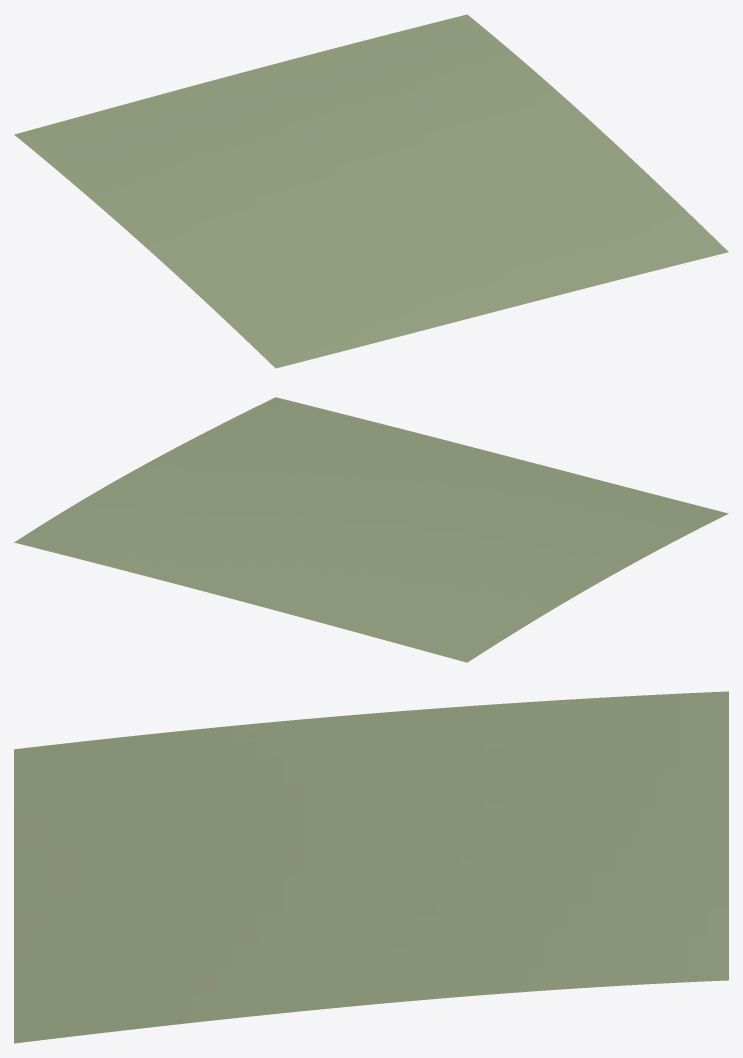
The model's file is desert-27-9.glb.
The picture shows the model from 3 angles, top to bottom: view 1: azimuth 30°, elevation 25°; view 2: azimuth 150°, elevation 25°; view 3: azimuth 270°, elevation 25°; orthographic projection. The views are drawn at different scales.
Visible parts, largest first — view 1: desert-27-9; view 2: desert-27-9; view 3: desert-27-9.
Part boxes in pixels (x1,y1,x2,y2): desert-27-9: [14, 14, 728, 368]; desert-27-9: [14, 397, 728, 662]; desert-27-9: [14, 691, 728, 1043].
Size of the model in its own units: 512 by 56.13 by 512.
